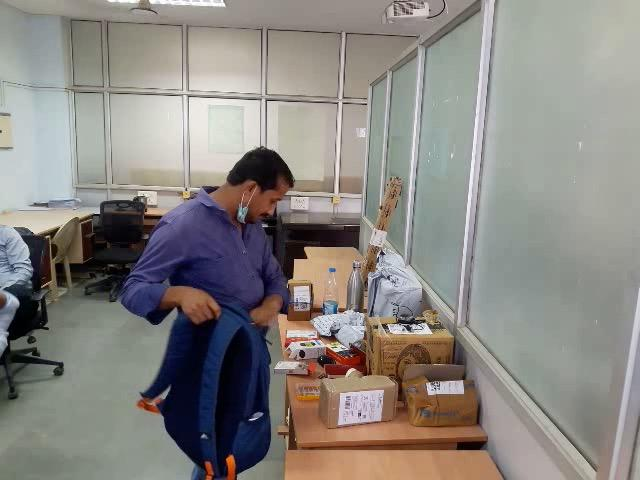shoplifting: (102, 253, 367, 419), (278, 382, 279, 386)
